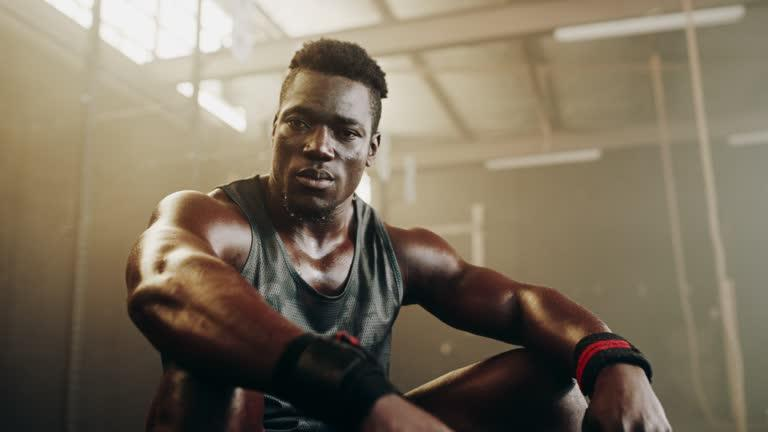Pessoa: (126, 39, 669, 431)
